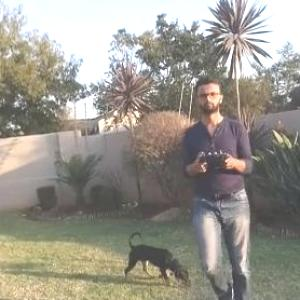follow: (180, 74, 257, 299)
null: (122, 227, 195, 288)
